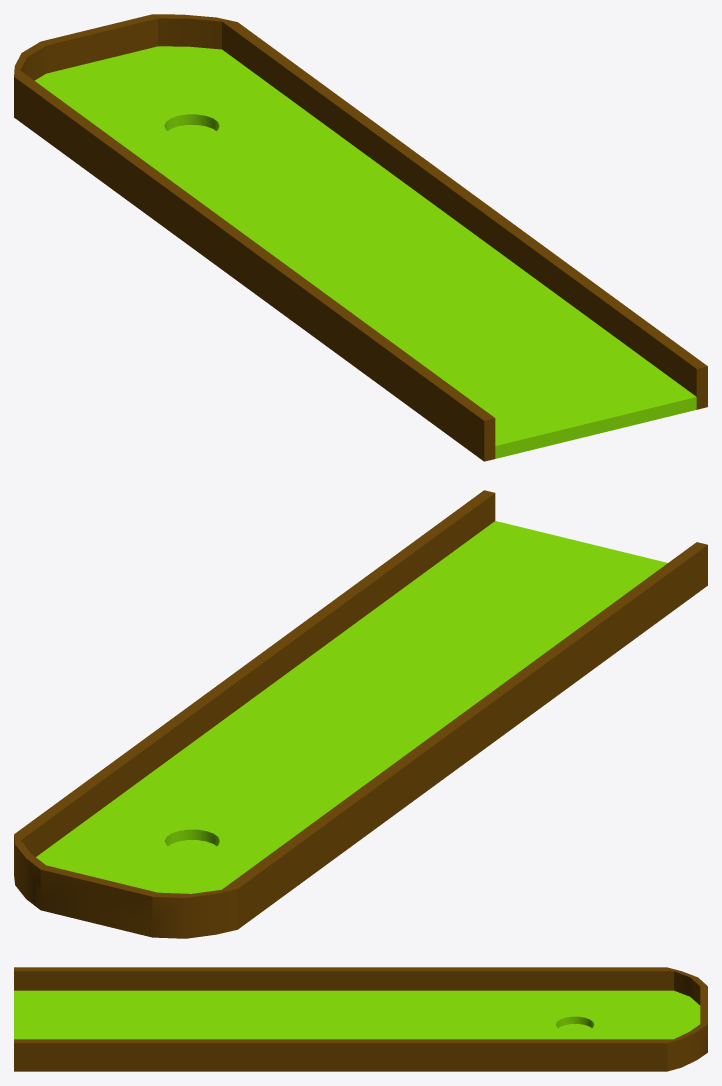
The model's file is Hole1.fbx.
The picture shows the model from 3 angles, top to bottom: view 1: azimuth 30°, elevation 25°; view 2: azimuth 150°, elevation 25°; view 3: azimuth 270°, elevation 25°; orthographic projection. The views are drawn at different scales.
Parts seen in each view (by area): view 1: Hole1; view 2: Hole1; view 3: Hole1.
Part boxes in pixels (<box>): Hole1: <box>14,14,707,461</box>; Hole1: <box>14,490,707,938</box>; Hole1: <box>14,967,707,1071</box>.
Bounding box in the file's own units: 18.22 × 3.18 × 70.46.
